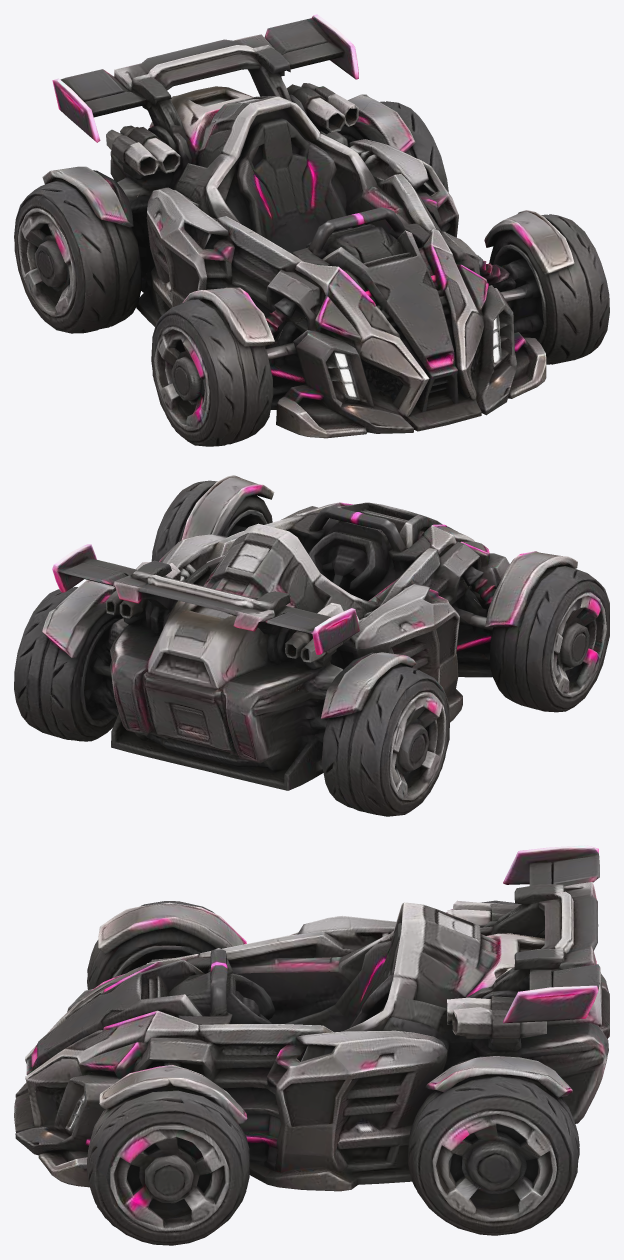
The model's file is 08-obsidian-pulse.glb.
3 renders of one model, top to bottom at view 1: azimuth 30°, elevation 25°; view 2: azimuth 150°, elevation 25°; view 3: azimuth 270°, elevation 25°, orthographic. The views are drawn at different scales.
Parts seen in each view (by area): view 1: 08-obsidian-pulse; view 2: 08-obsidian-pulse; view 3: 08-obsidian-pulse.
Boxes of the visible parts, left/top/right/bottom form: 08-obsidian-pulse: left=14, top=14, right=609, bottom=446; 08-obsidian-pulse: left=14, top=475, right=609, bottom=816; 08-obsidian-pulse: left=14, top=845, right=609, bottom=1245.
Bounding box in the file's own units: 1.61 × 0.8207 × 1.89.
Materials: 1 (1 with a texture image).
